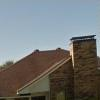Chimney: (62, 27, 100, 83)
